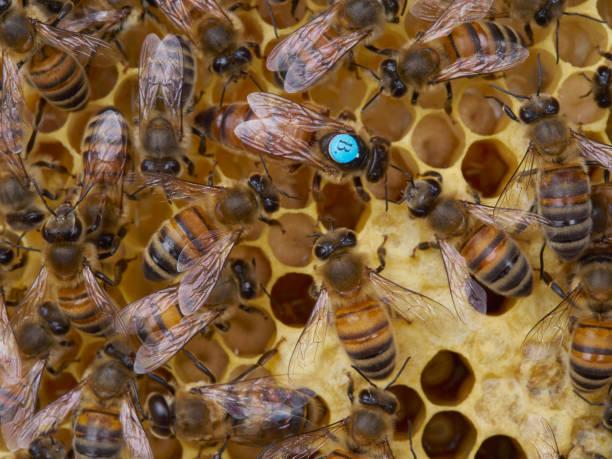Queen-Bee: (197, 92, 388, 200)
worker-bee: (288, 227, 448, 379), (496, 69, 611, 260), (6, 310, 153, 458), (147, 348, 326, 458), (404, 171, 537, 319), (373, 0, 528, 102), (122, 260, 256, 372), (142, 174, 278, 281), (521, 243, 611, 392), (0, 0, 120, 110), (20, 201, 114, 335), (266, 0, 398, 92), (158, 0, 260, 86), (0, 60, 45, 231), (138, 33, 192, 175), (80, 106, 129, 257)
